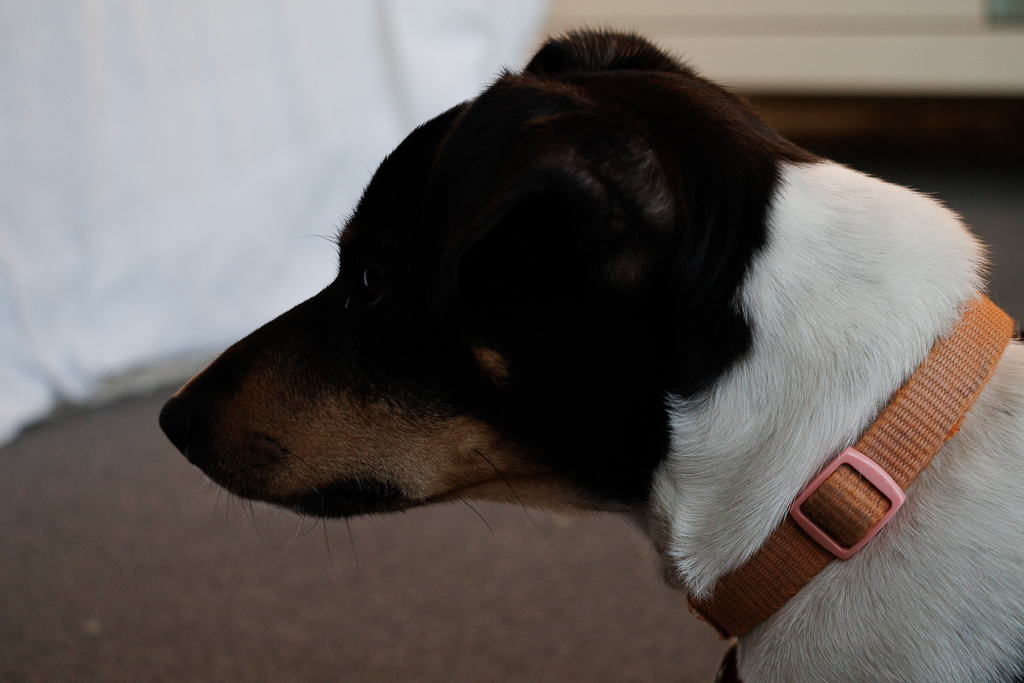Dog: (153, 21, 1023, 682)
